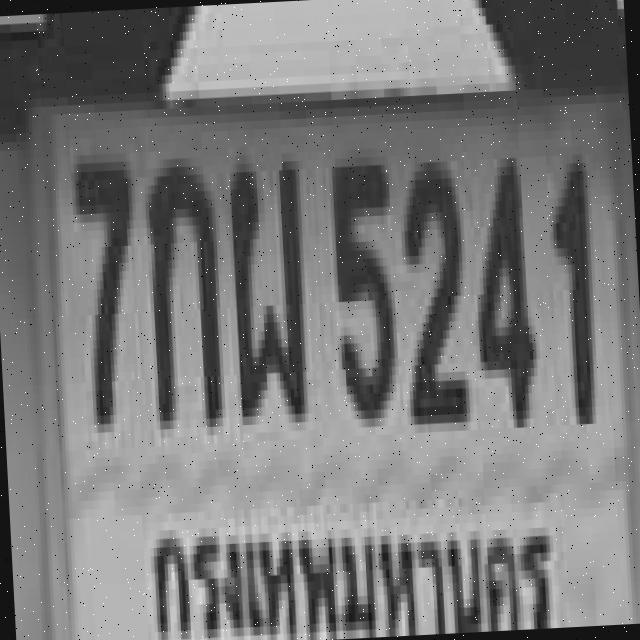1: (546, 150, 596, 413)
10GorGai: (142, 148, 222, 422)
2: (394, 148, 466, 412)
37PhorPhueng: (222, 149, 308, 413)
4: (466, 145, 536, 417)
5: (328, 144, 398, 416)
7: (70, 148, 140, 420)
Bangkok: (141, 493, 557, 640)
